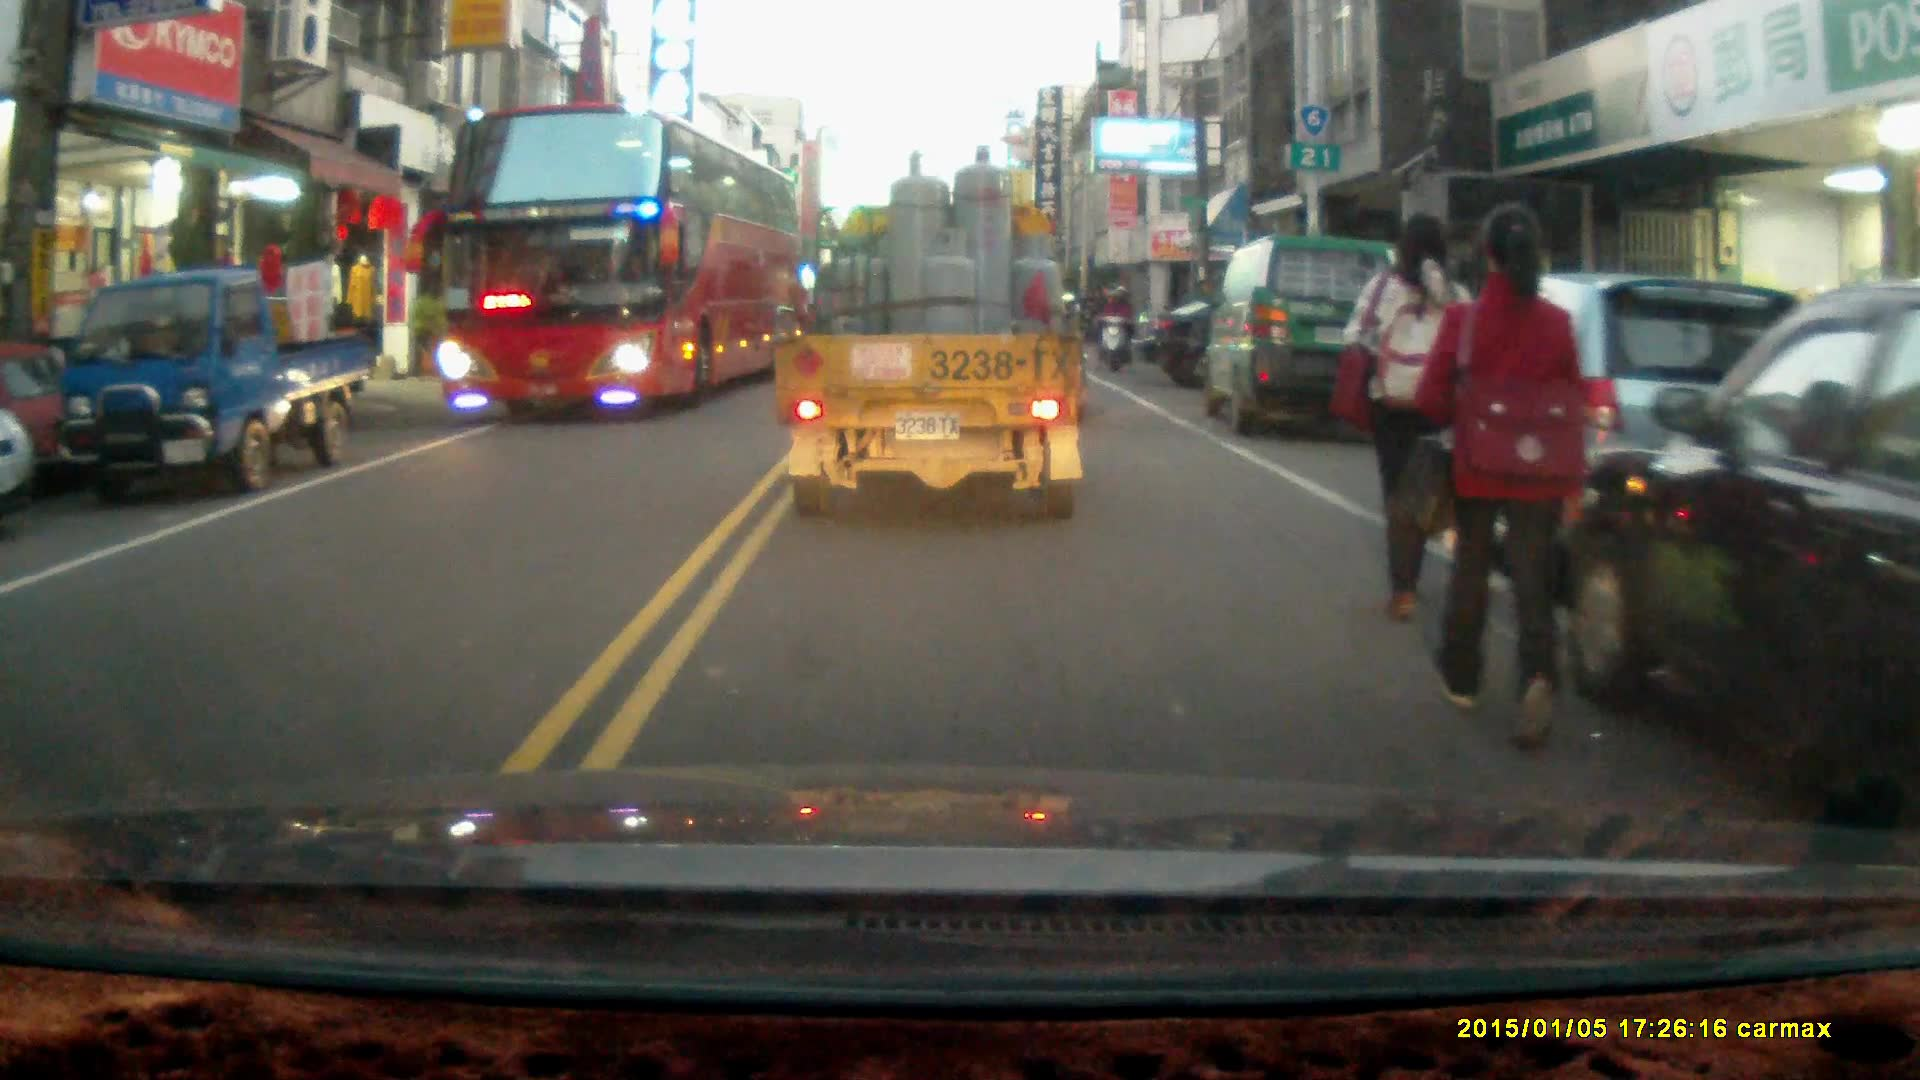pedestrian: (1416, 197, 1595, 753), (1349, 204, 1478, 628)
rider: (1093, 284, 1135, 374)
vehicle: (1550, 300, 1920, 836), (775, 144, 1091, 523), (430, 104, 801, 425), (49, 272, 359, 499), (1204, 234, 1409, 432), (1132, 299, 1423, 395)
